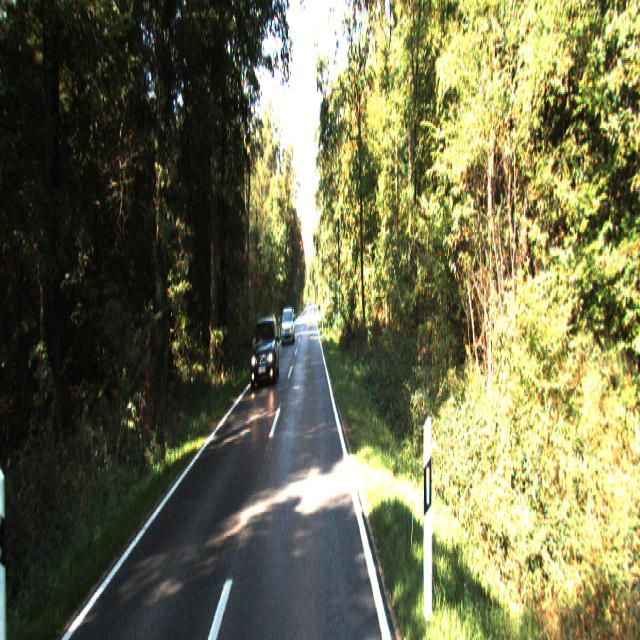Car: (248, 315, 281, 392), (280, 309, 296, 346)
